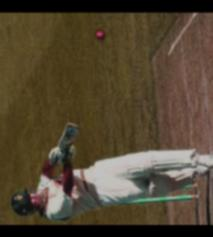batsman: (0, 123, 213, 222)
